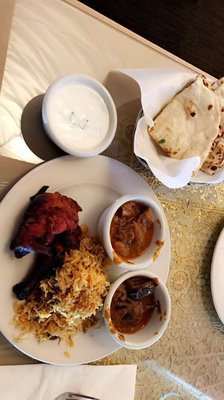sushi: (40, 73, 118, 158)
